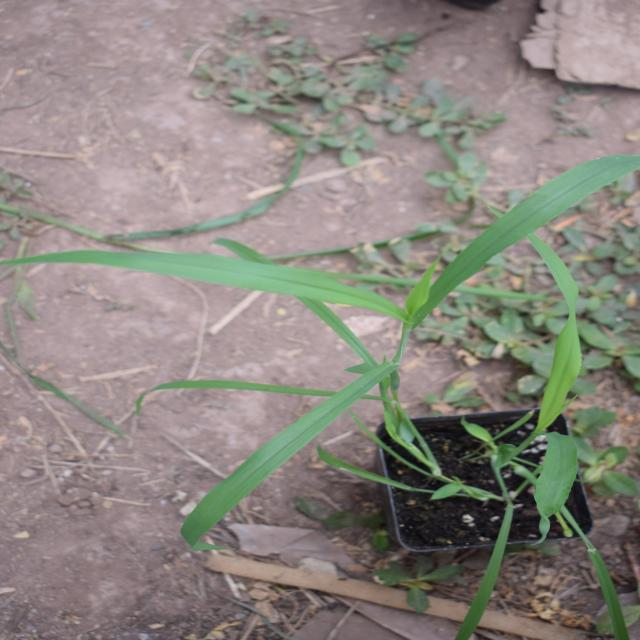crabgrass: (140, 33, 522, 544), (273, 0, 508, 164)
